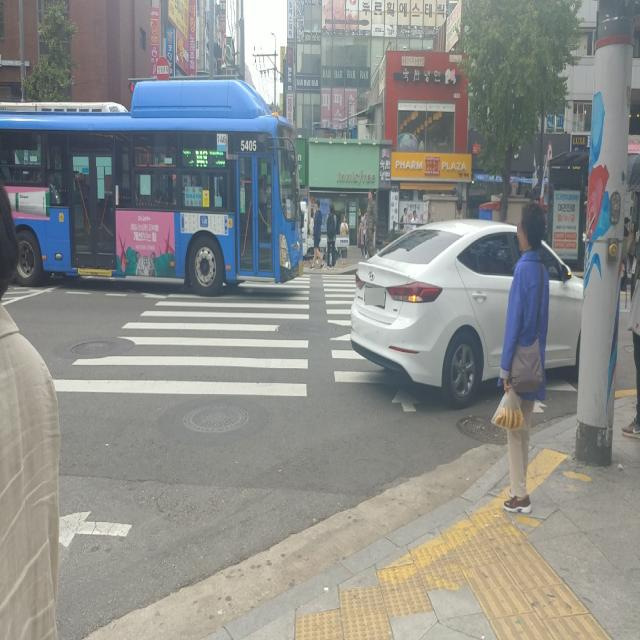횡단보도: (52, 272, 578, 414)
